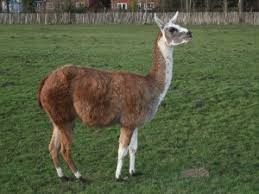alpaca: (38, 11, 192, 183)
